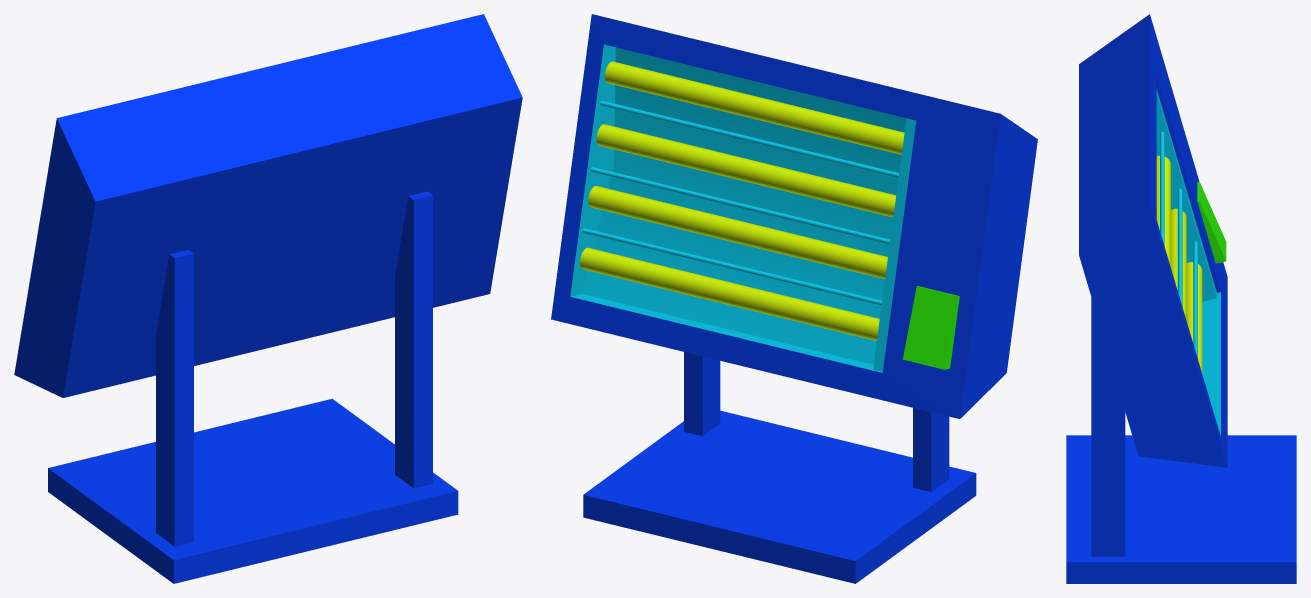
File: Radiador.FBX
3 renders of one model, left to right at view 1: azimuth 30°, elevation 25°; view 2: azimuth 150°, elevation 25°; view 3: azimuth 270°, elevation 25°, orthographic. The views are drawn at different scales.
Parts seen in each view (by area): view 1: Box002; view 2: Box002; view 3: Box002.
Boxes of the visible parts, <box> form: Box002: <box>14,14,522,583</box>; Box002: <box>551,14,1037,583</box>; Box002: <box>1066,14,1296,583</box>.
Bounding box in the file's own units: 0.8239 × 0.8289 × 0.4204.
